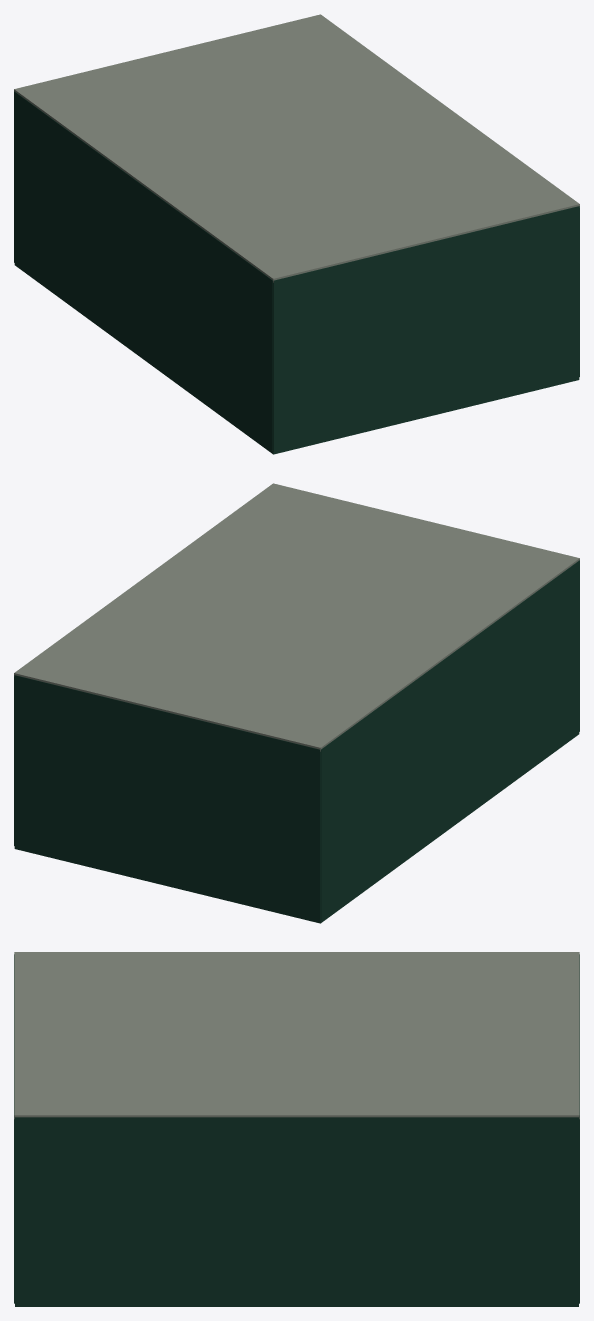
File: checkerboard.glb
3 renders of one model, top to bottom at view 1: azimuth 30°, elevation 25°; view 2: azimuth 150°, elevation 25°; view 3: azimuth 270°, elevation 25°, orthographic. The views are drawn at different scales.
Parts seen in each view (by area): view 1: Ceiling, Front_Grout, Left_Grout, Floor_Substrate; view 2: Ceiling, Back_Grout, Left_Grout, Floor_Substrate; view 3: Right_Grout, Ceiling, Floor_Substrate.
Boxes of the visible parts, <box> form: Ceiling: <box>14,14,579,282</box>; Front_Grout: <box>273,206,579,451</box>; Left_Grout: <box>14,91,273,451</box>; Floor_Substrate: <box>14,263,579,454</box>; Ceiling: <box>14,483,579,751</box>; Back_Grout: <box>14,675,320,920</box>; Left_Grout: <box>320,560,579,920</box>; Floor_Substrate: <box>14,732,579,923</box>; Right_Grout: <box>15,1117,578,1303</box>; Ceiling: <box>14,952,579,1119</box>; Floor_Substrate: <box>15,1304,578,1306</box>.
Size of the model in its own units: 6.92 by 3.79 by 10.12.
